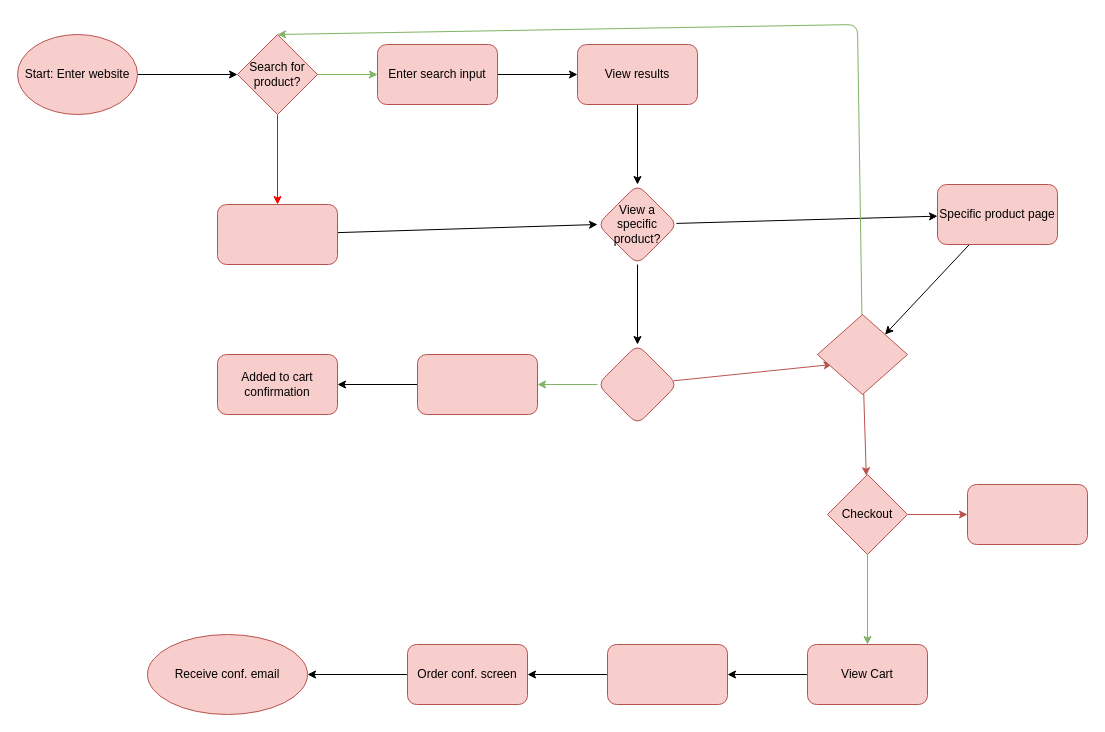
Image size: 1105x732. Some labels were removed from this diagram. Here are the shapes that lost their labels. From the top down, the box of each, then its label:
(216, 204, 338, 264): Explore products on home page
(816, 314, 908, 394): Continue shopping?
(416, 354, 538, 414): Add item to cart
(596, 344, 678, 424): Add to cart?
(966, 484, 1088, 544): Leave website
(606, 644, 728, 704): View Payment
